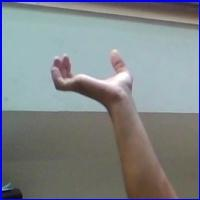B: (48, 44, 140, 104)
